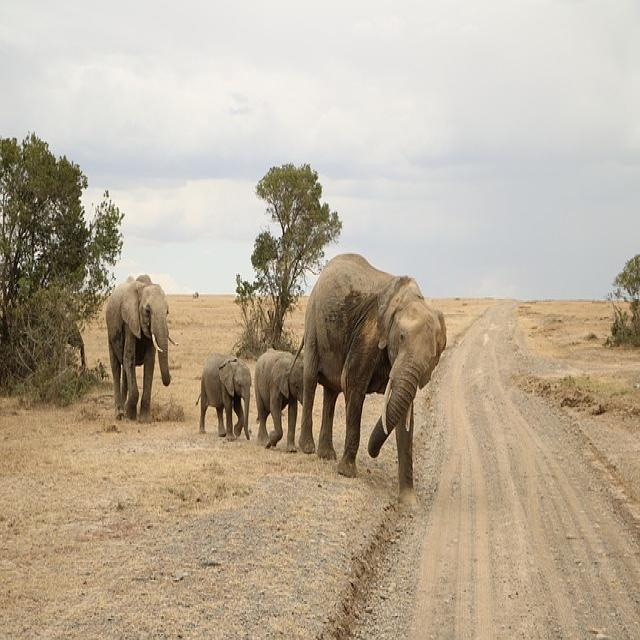FIL: (306, 253, 446, 500), (106, 265, 171, 422), (257, 343, 307, 452), (201, 348, 253, 442)
